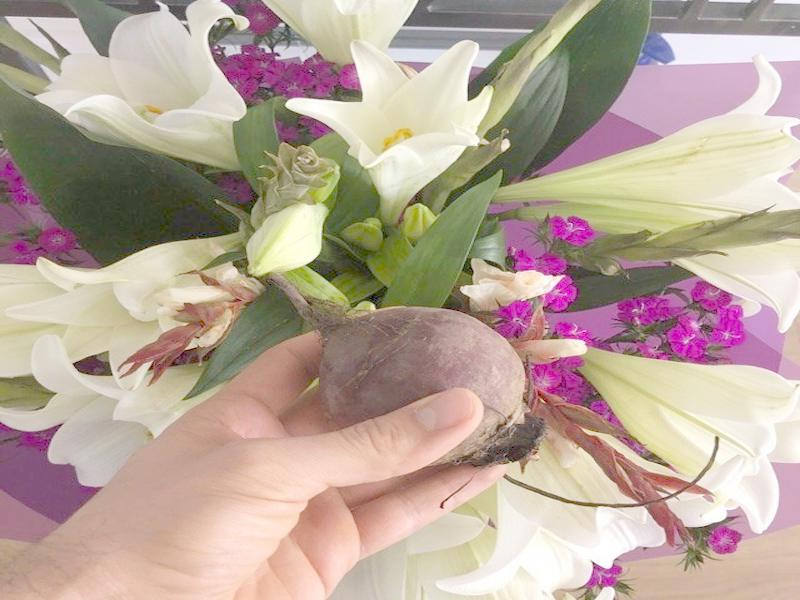Beet: (261, 269, 545, 467)
